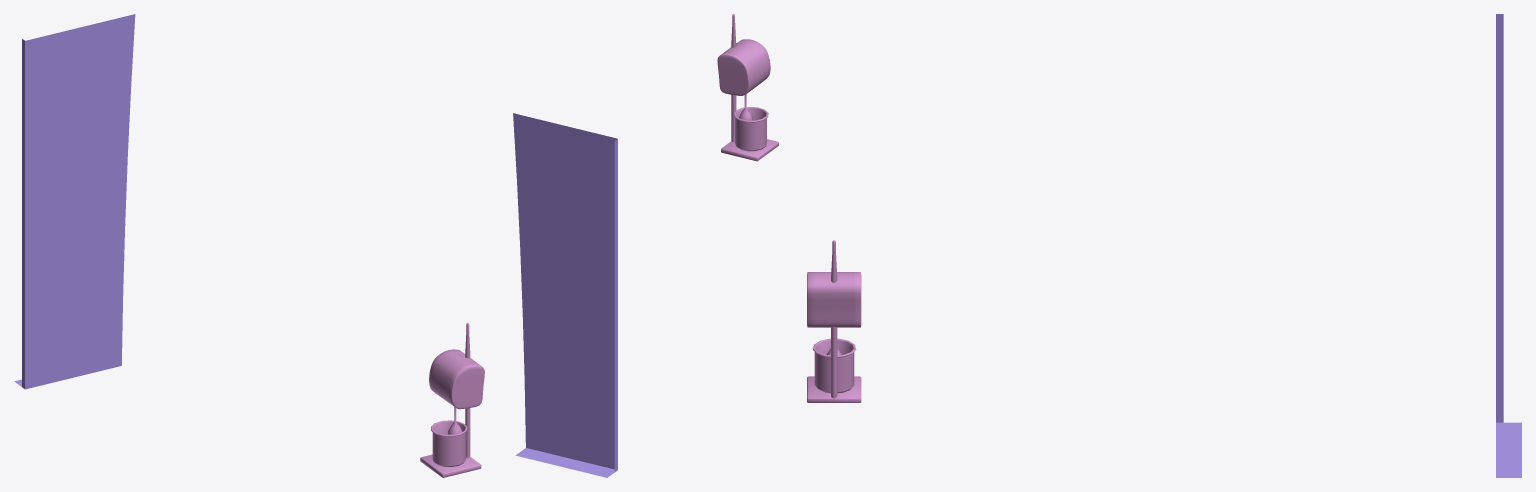
Rendered from maquina_mezcla.FBX.
3 views of the same model, side by side, from view 1: azimuth 30°, elevation 25°; view 2: azimuth 150°, elevation 25°; view 3: azimuth 270°, elevation 25° (orthographic). The views are drawn at different scales.
Parts seen in each view (by area): view 1: puerta1_low, cuadrado_low, proveta4_low, tabla_low; view 2: puerta1_low, cuadrado_low, proveta4_low, tabla_low, bara_low; view 3: puerta1_low, cuadrado_low, proveta4_low, tabla_low.
Boxes of the visible parts, bbox=[...] form: puerta1_low: bbox=[14, 14, 135, 389]; cuadrado_low: bbox=[429, 349, 484, 409]; proveta4_low: bbox=[431, 420, 467, 466]; tabla_low: bbox=[420, 454, 481, 477]; puerta1_low: bbox=[513, 113, 617, 477]; cuadrado_low: bbox=[717, 39, 770, 95]; proveta4_low: bbox=[733, 107, 768, 151]; tabla_low: bbox=[721, 139, 778, 161]; bara_low: bbox=[731, 14, 736, 141]; puerta1_low: bbox=[1496, 14, 1521, 477]; cuadrado_low: bbox=[807, 272, 861, 327]; proveta4_low: bbox=[813, 338, 856, 393]; tabla_low: bbox=[807, 376, 861, 402].
Size of the model in its own units: 34.39 by 68.8 by 109.
